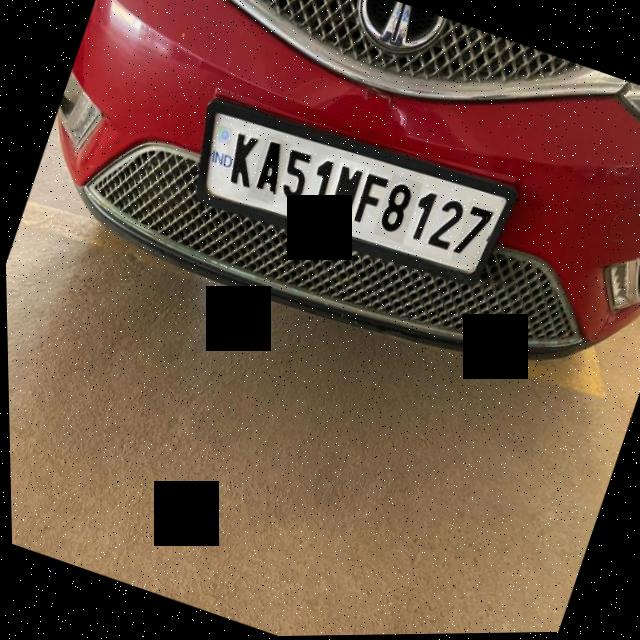1: (297, 155, 343, 223), (401, 189, 438, 252)
5: (269, 143, 321, 213)
7: (448, 202, 495, 271)
8: (371, 175, 423, 246)
A: (244, 136, 293, 208)
F: (348, 168, 394, 231)
K: (215, 126, 267, 196)
M: (321, 158, 371, 224)
